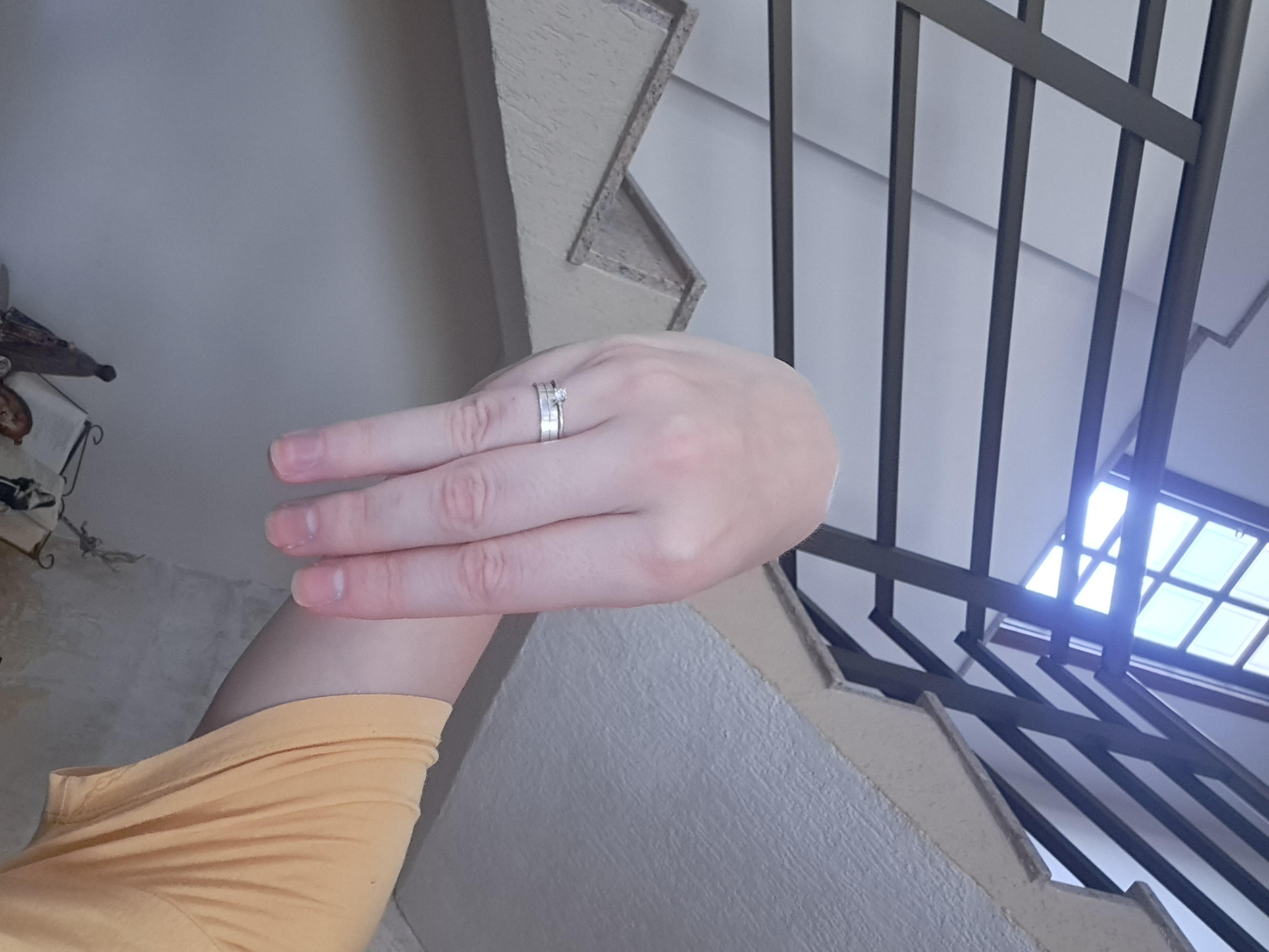M: (425, 312, 850, 755)
